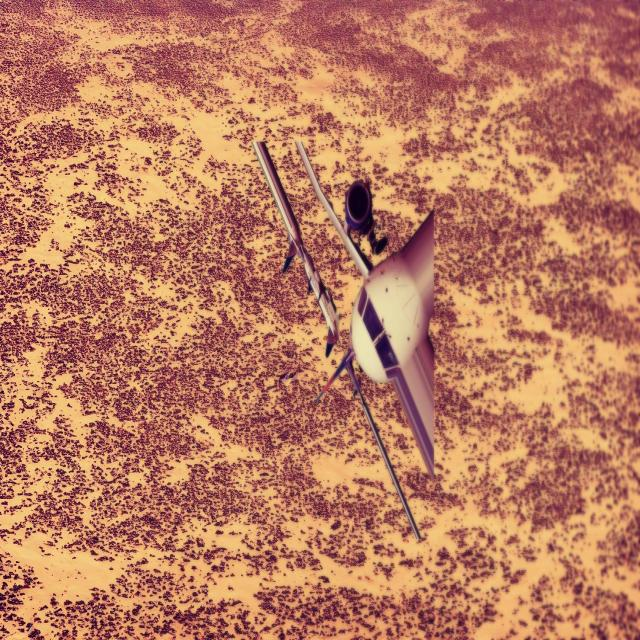airplane: (251, 137, 437, 542)
